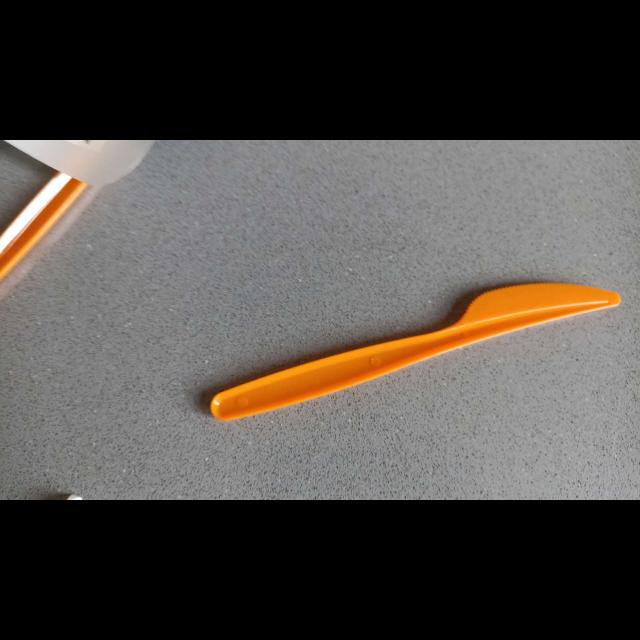plastic_cultery: (208, 281, 624, 425)
